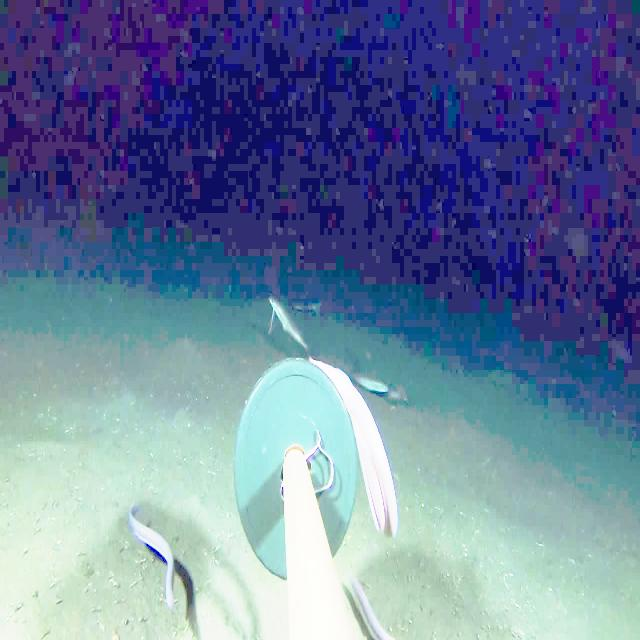eel: (299, 339, 409, 546), (109, 482, 197, 631), (338, 558, 409, 639)
fish: (260, 291, 317, 359), (350, 359, 418, 413)
pole: (232, 363, 357, 639)
